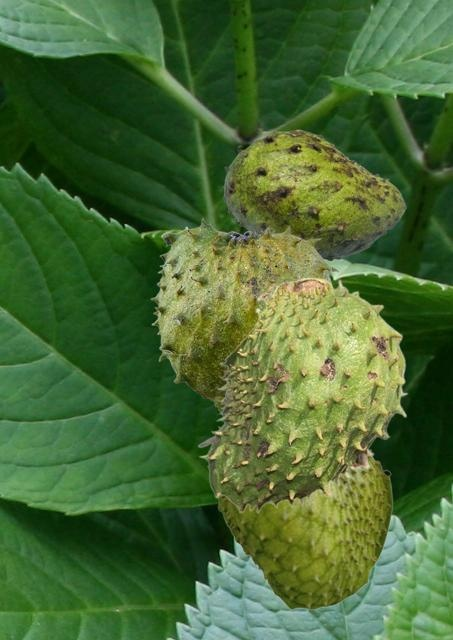guyabano: (197, 277, 407, 513), (150, 217, 339, 400), (217, 449, 392, 609), (222, 129, 405, 260)
